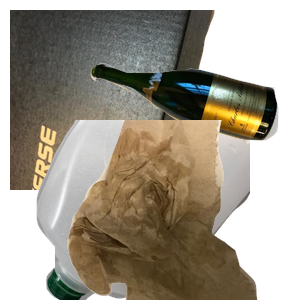cardboard: (10, 10, 217, 190)
glass: (88, 60, 300, 193)
plastic: (34, 120, 274, 300)
trash: (65, 120, 300, 300)
